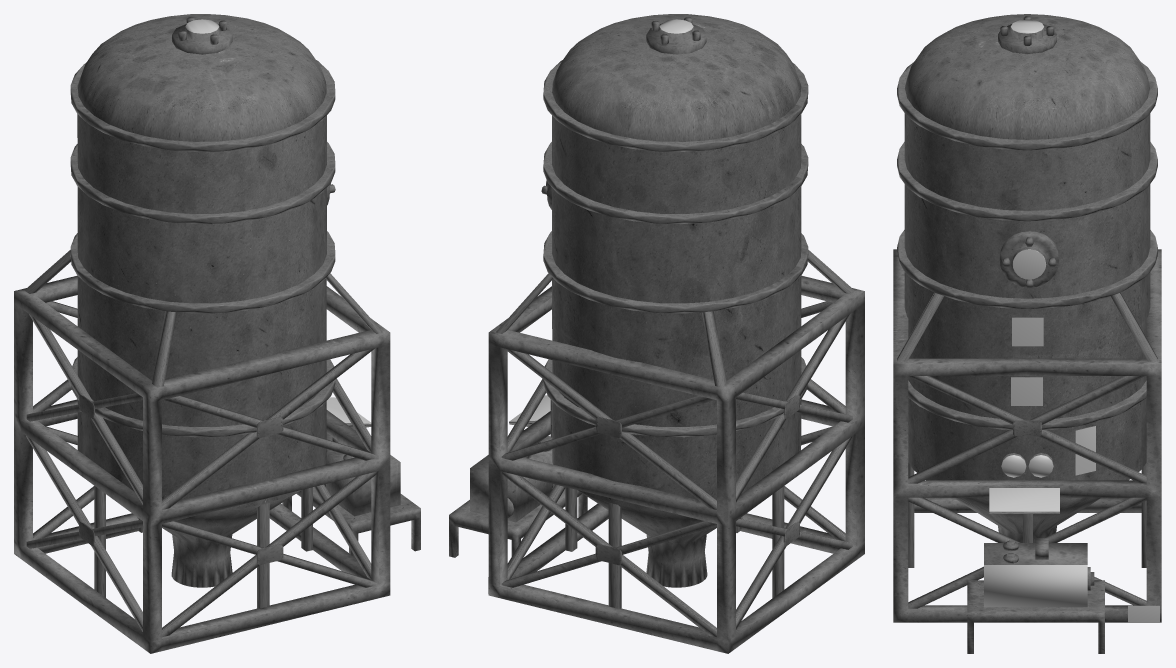
File: storage_tank.fbx
The picture shows the model from 3 angles, left to right: view 1: azimuth 30°, elevation 25°; view 2: azimuth 150°, elevation 25°; view 3: azimuth 270°, elevation 25°; orthographic projection.
Visible parts, largest first — view 1: tank; view 2: tank; view 3: tank.
Boxes of the visible parts, x1,y1,x2,y2 form: tank: (14, 14, 420, 653); tank: (449, 14, 864, 653); tank: (893, 14, 1161, 653).
Size of the model in its own units: 360 by 612 by 277.
Materials: 3 (1 with a texture image).
